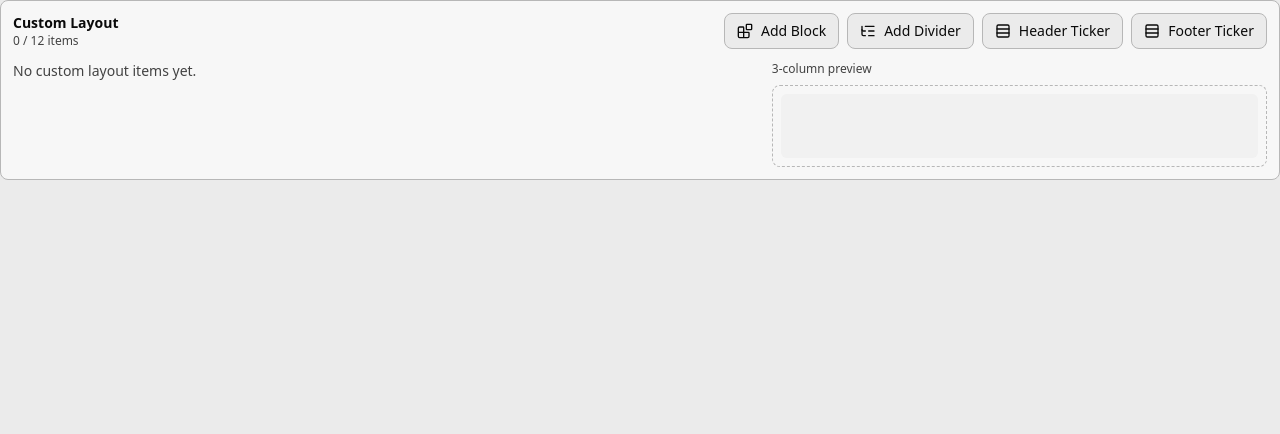
CustomLayoutBuilder — metric block editor › auto-expands a newly added metric block
Click the button with test id "settings-custom-layout-add-metric-block".
click(782, 31)  # box top-left (724, 13), bottom-right (839, 49)
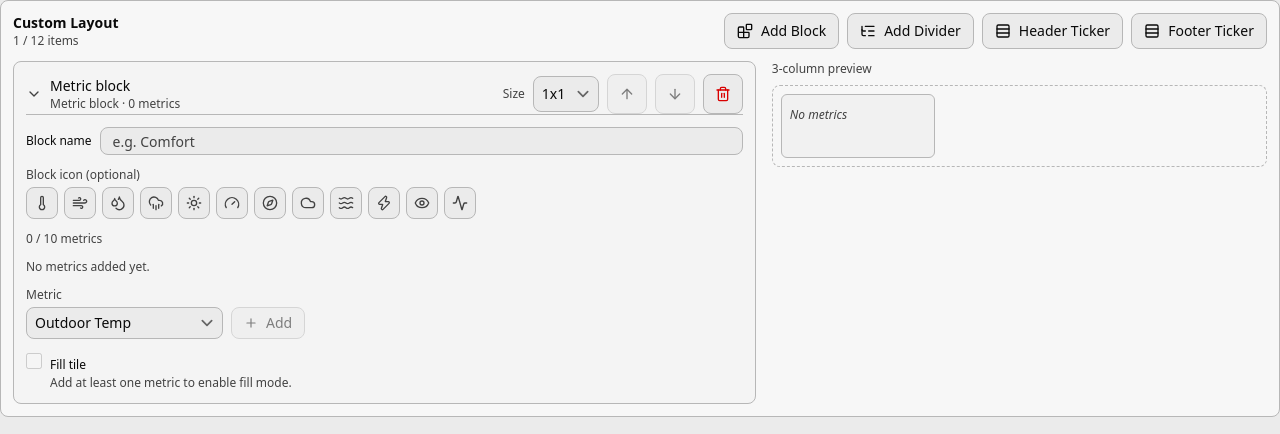
Result: the element with test id "settings-custom-layout-block-editor" is shown at top-left (26, 114), bottom-right (743, 391)
Result: the text "No metrics added yet." is shown at top-left (26, 258), bottom-right (150, 275)
